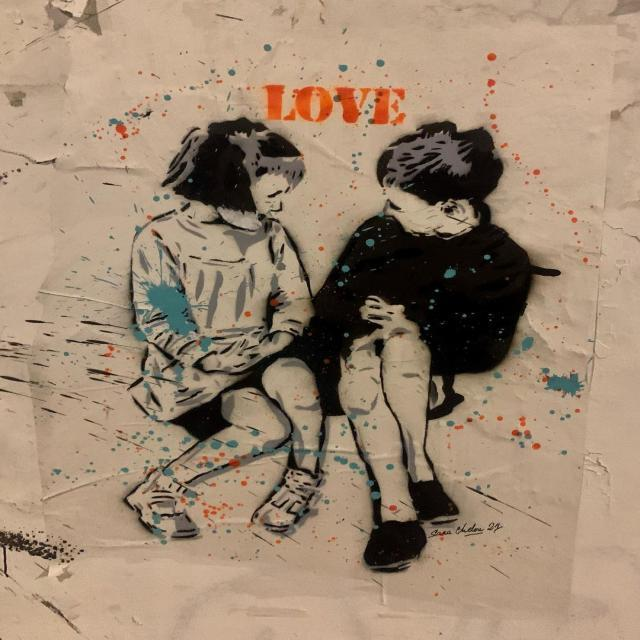-: (116, 108, 574, 577)
